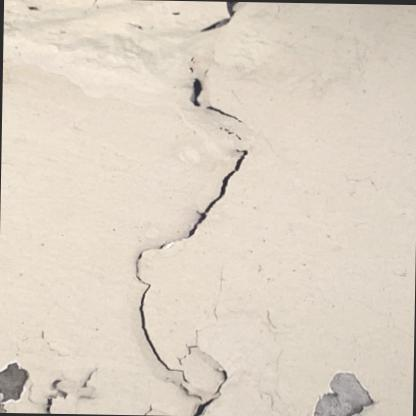crack: (131, 240, 187, 381), (178, 151, 252, 241), (188, 369, 231, 416), (199, 0, 245, 32), (208, 104, 242, 120), (186, 77, 206, 104)
